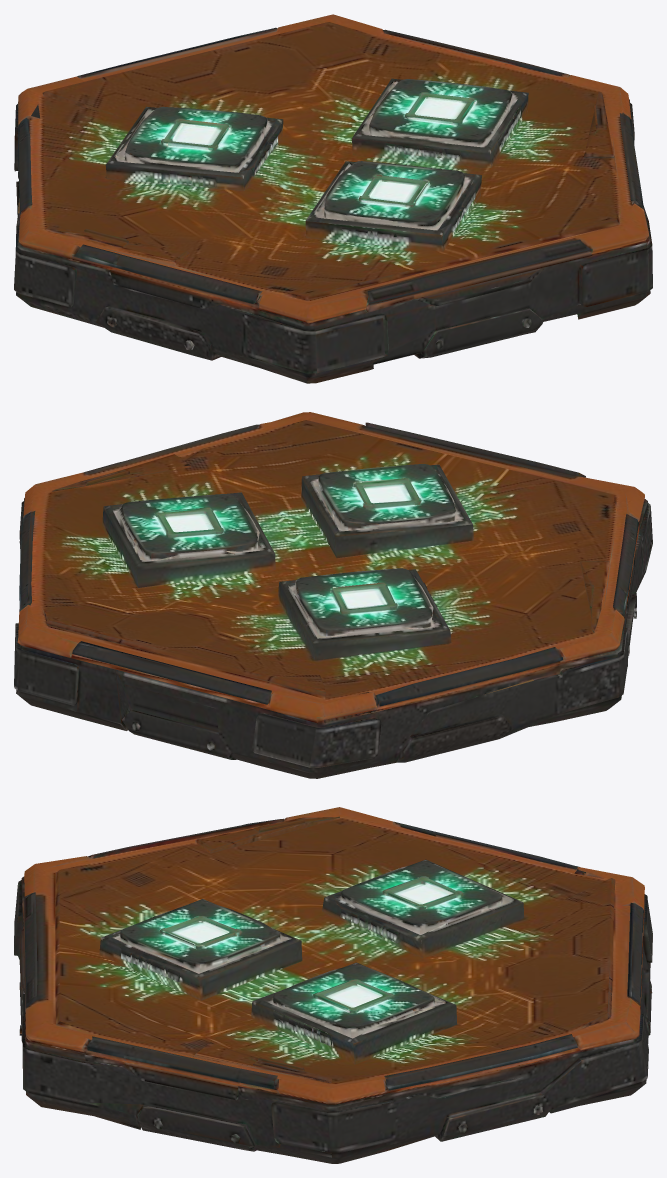
File: colline_v3.glb
The picture shows the model from 3 angles, top to bottom: view 1: azimuth 30°, elevation 25°; view 2: azimuth 150°, elevation 25°; view 3: azimuth 270°, elevation 25°; orthographic projection.
Parts seen in each view (by area): view 1: tripo_node_44a103f0-3820-4a60-8407-451562a71c2d; view 2: tripo_node_44a103f0-3820-4a60-8407-451562a71c2d; view 3: tripo_node_44a103f0-3820-4a60-8407-451562a71c2d.
Part boxes in pixels (x1,y1,x2,y2): tripo_node_44a103f0-3820-4a60-8407-451562a71c2d: [14, 14, 652, 383]; tripo_node_44a103f0-3820-4a60-8407-451562a71c2d: [14, 412, 652, 778]; tripo_node_44a103f0-3820-4a60-8407-451562a71c2d: [14, 807, 652, 1163].
Bounding box in the file's own units: 0.9995 × 0.1564 × 0.9069.
1 material, 1 textured.
